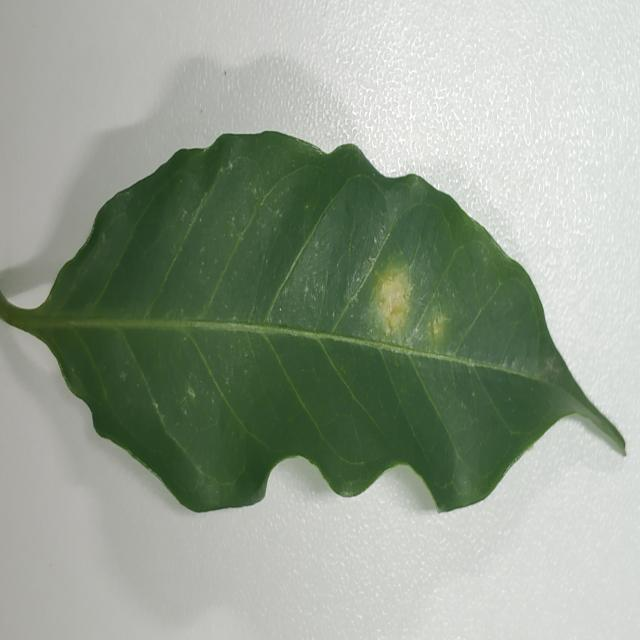Enfermedad-Roya: (0, 132, 626, 516)
